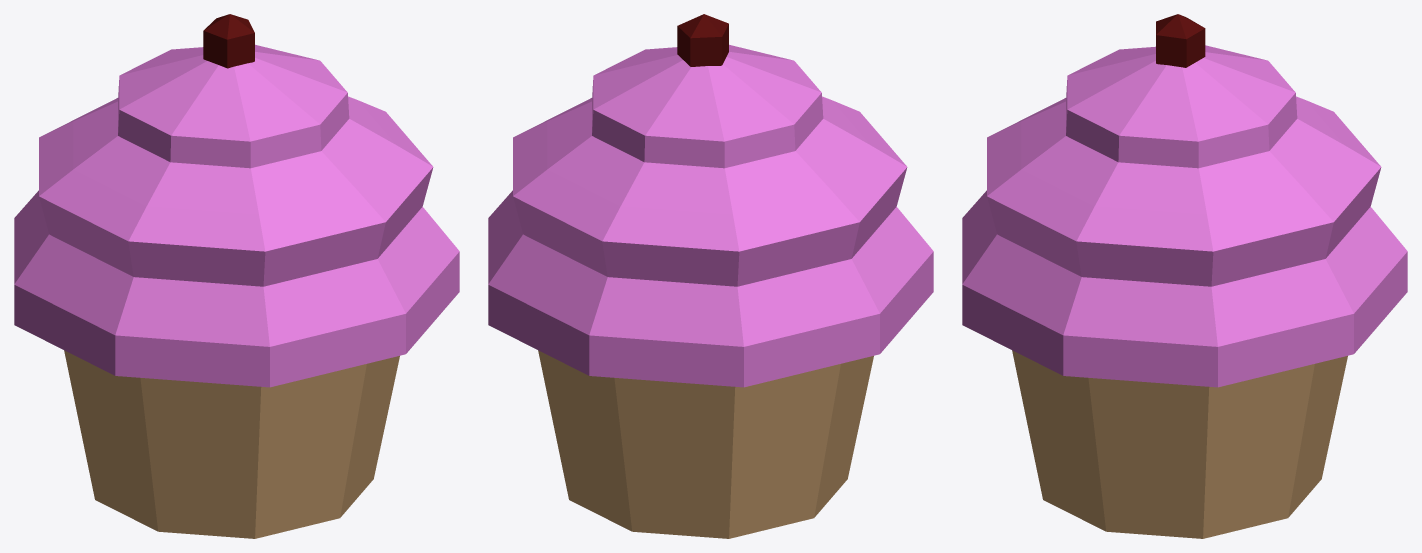
Rendered from Thee Cupcakes Ness Of Cups .fbx.
3 renders of one model, left to right at view 1: azimuth 30°, elevation 25°; view 2: azimuth 150°, elevation 25°; view 3: azimuth 270°, elevation 25°, orthographic.
Visible parts, largest first — view 1: Sphere, Cylinder, Sphere.001; view 2: Sphere, Cylinder, Sphere.001; view 3: Sphere, Cylinder, Sphere.001.
Part boxes in pixels (left/top/right/bottom): Sphere: left=14, top=44, right=459, bottom=387; Cylinder: left=64, top=350, right=399, bottom=538; Sphere.001: left=203, top=14, right=254, bottom=68; Sphere: left=488, top=44, right=933, bottom=387; Cylinder: left=538, top=350, right=873, bottom=538; Sphere.001: left=677, top=14, right=728, bottom=66; Sphere: left=962, top=45, right=1407, bottom=387; Cylinder: left=1012, top=350, right=1347, bottom=538; Sphere.001: left=1156, top=14, right=1205, bottom=67.
Size of the model in its own units: 252 by 286 by 248.
